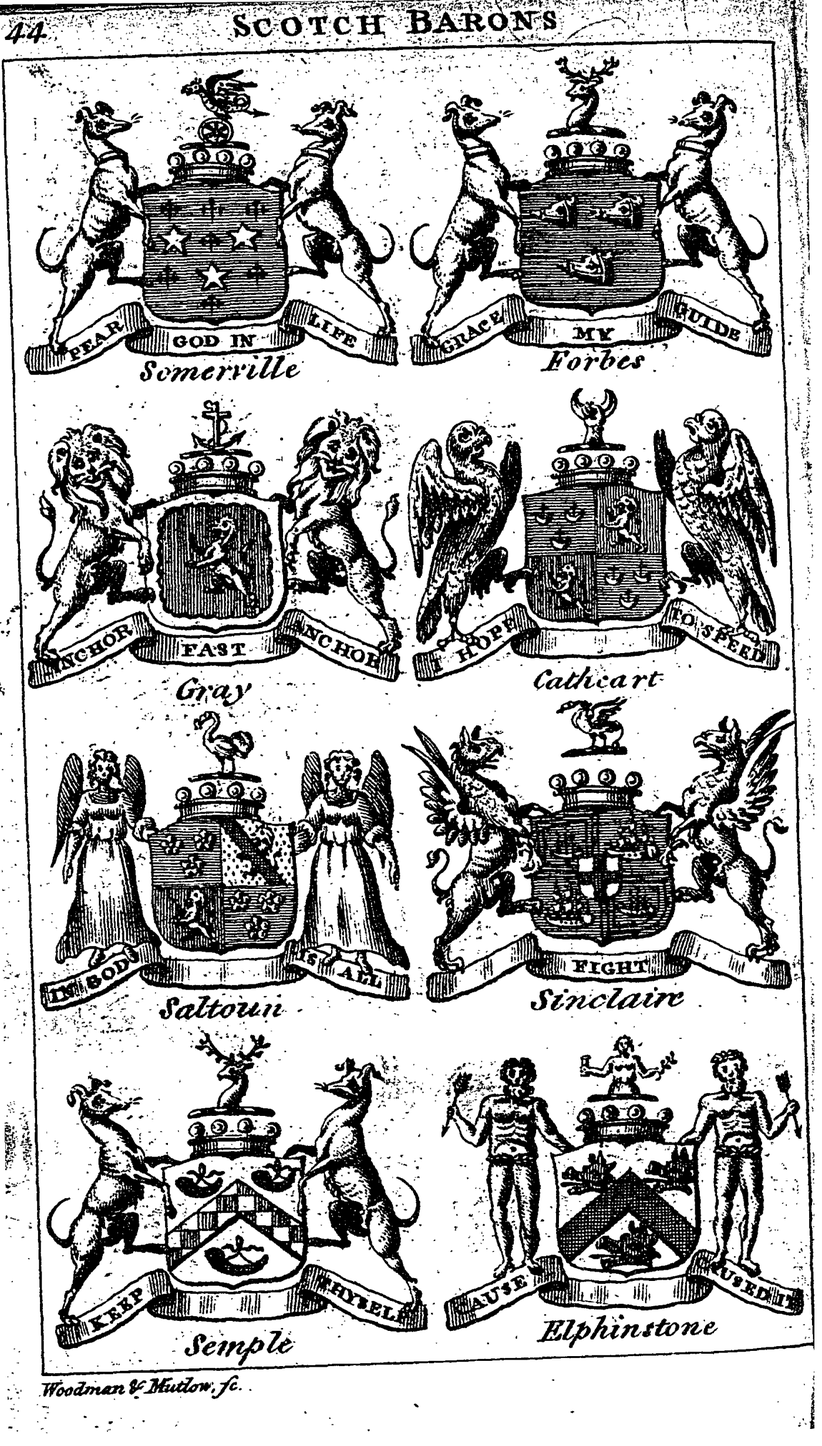coat_of_arms: (35, 1033, 426, 1356), (31, 69, 404, 398), (411, 703, 800, 1018), (400, 378, 786, 690), (31, 714, 413, 1029), (23, 398, 397, 709), (416, 56, 771, 374), (446, 1035, 807, 1347)
